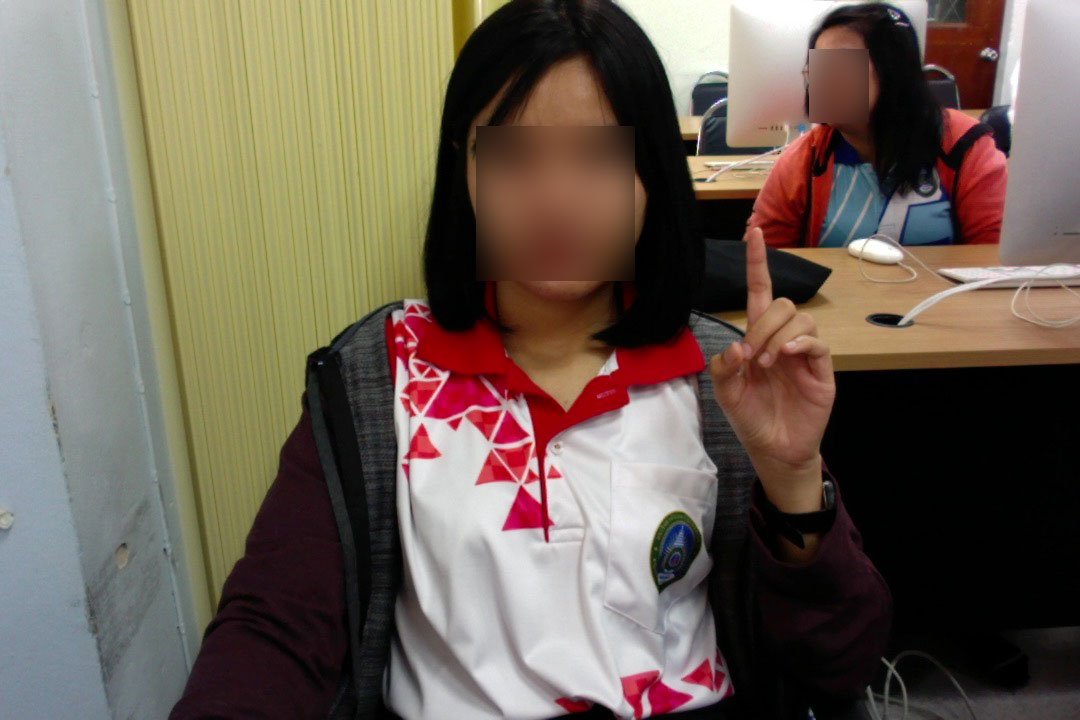dor: (694, 213, 843, 483)
